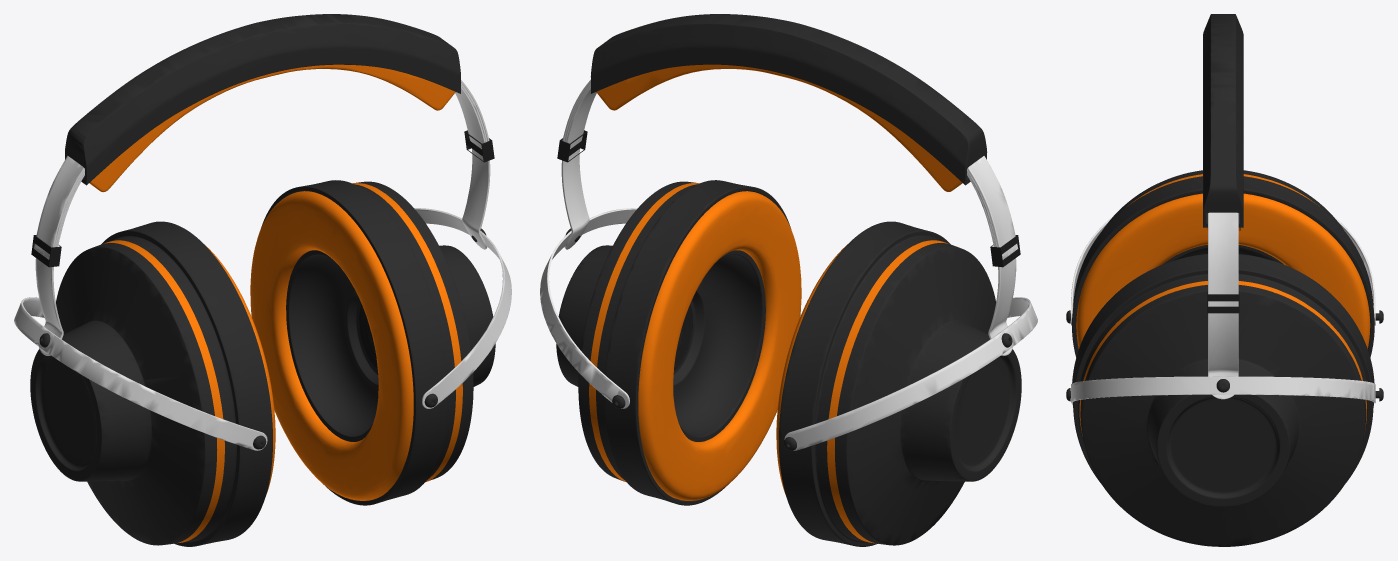
File: headphones.glb
The picture shows the model from 3 angles, left to right: view 1: azimuth 30°, elevation 25°; view 2: azimuth 150°, elevation 25°; view 3: azimuth 270°, elevation 25°; orthographic projection. The views are drawn at different scales.
Parts seen in each view (by area): view 1: Ear Cups, Cups Cousion, Heaband Clips, Slider; view 2: Ear Cups, Cups Cousion, Heaband Clips, Slider; view 3: Ear Cups, Cups Cousion, Heaband Clips, Slider.
Boxes of the visible parts, box(x1,y1,x2,y2) form: Ear Cups: box(30, 14, 495, 546); Cups Cousion: box(89, 64, 455, 500); Heaband Clips: box(14, 80, 511, 450); Slider: box(31, 130, 494, 370); Ear Cups: box(556, 14, 1021, 546); Cups Cousion: box(596, 64, 962, 500); Heaband Clips: box(540, 79, 1037, 450); Slider: box(557, 130, 1020, 370); Ear Cups: box(1066, 14, 1383, 546); Cups Cousion: box(1076, 193, 1370, 348); Heaband Clips: box(1071, 212, 1375, 403); Slider: box(1207, 291, 1239, 313).
Bounding box in the file's own units: 2.51 × 2.6 × 1.66.
